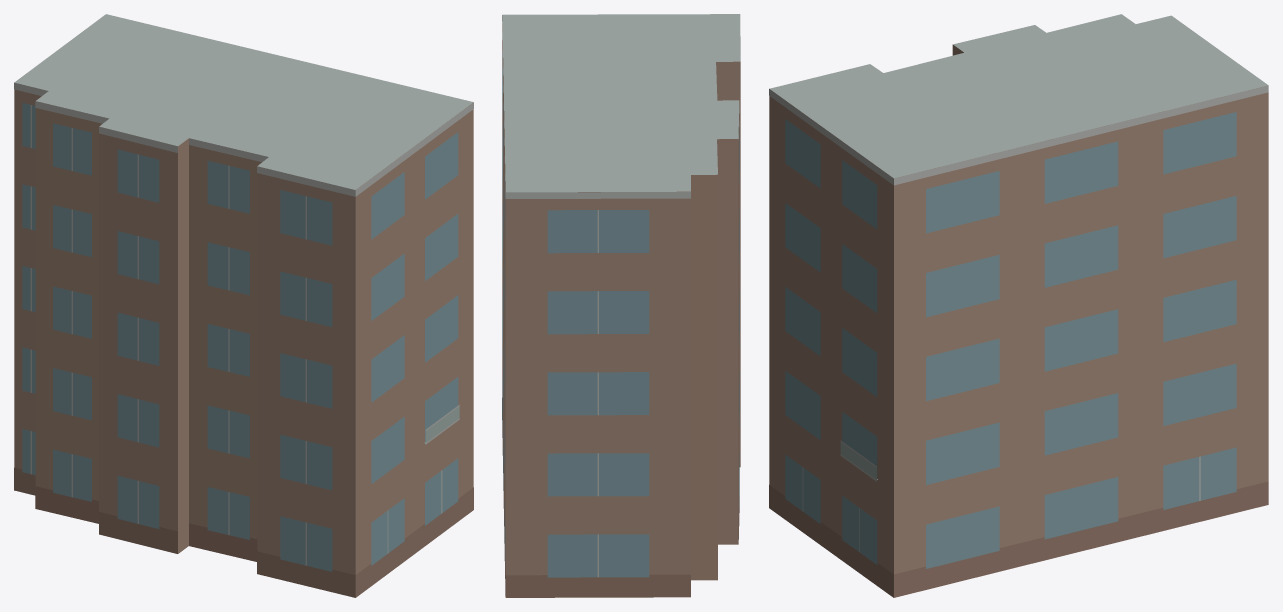
File: survey-upis-32996718.glb
3 renders of one model, left to right at view 1: azimuth 30°, elevation 25°; view 2: azimuth 150°, elevation 25°; view 3: azimuth 270°, elevation 25°, orthographic. The views are drawn at different scales.
Visible parts, largest first — view 1: survey-upis-32996718.tmp; view 2: survey-upis-32996718.tmp; view 3: survey-upis-32996718.tmp.
Part boxes in pixels (bbox=[...]): survey-upis-32996718.tmp: bbox=[14, 14, 473, 597]; survey-upis-32996718.tmp: bbox=[502, 14, 740, 597]; survey-upis-32996718.tmp: bbox=[769, 14, 1268, 597].
Bounding box in the file's own units: 12.28 × 14.6 × 15.76.
